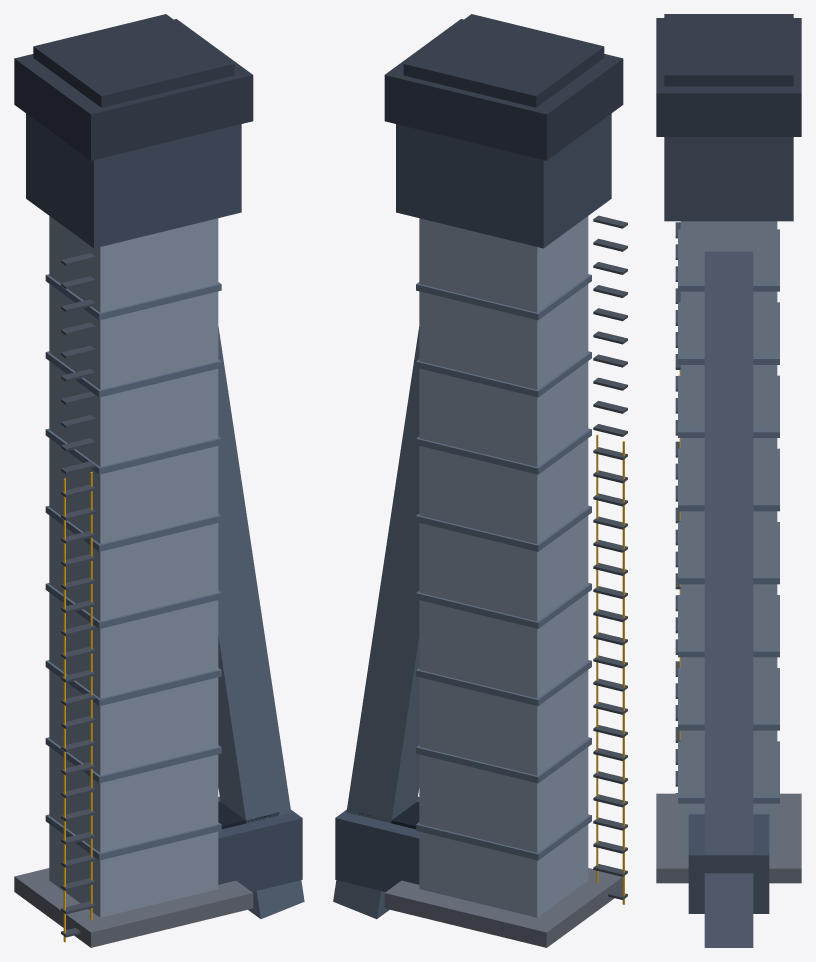
Rendered from grain-elevator-authored-body-authored-atlas.glb.
3 renders of one model, left to right at view 1: azimuth 30°, elevation 25°; view 2: azimuth 150°, elevation 25°; view 3: azimuth 270°, elevation 25°, orthographic. The views are drawn at different scales.
Visible parts, largest first — view 1: Authored surface.287; view 2: Authored surface.287; view 3: Authored surface.287.
Part boxes in pixels (bbox=[...]): Authored surface.287: bbox=[14, 14, 304, 947]; Authored surface.287: bbox=[333, 14, 627, 947]; Authored surface.287: bbox=[656, 14, 801, 947].
Bounding box in the file's own units: 17.22 × 57.19 × 9.
Materials: 1 (1 with a texture image).
